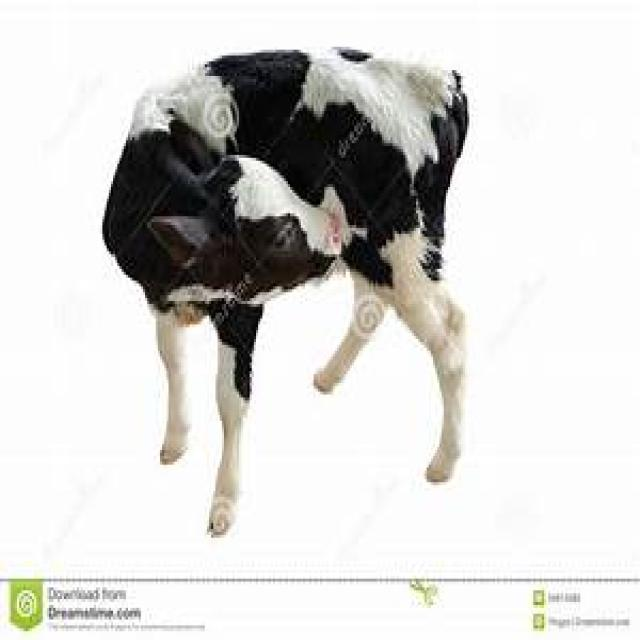cow: (100, 47, 474, 541)
